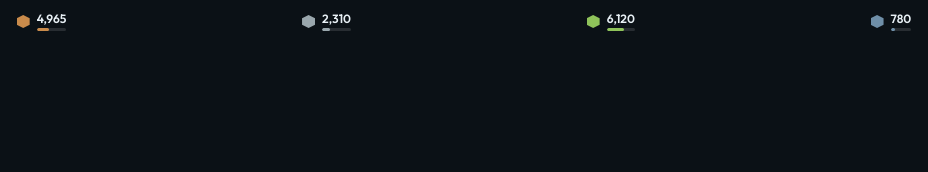
Test: ResourceBar (desktop fit) › switches to the collapsed phone pills when the full row does not fit, and tapping cycles them
The width and height of the screenshot is (928, 172).
Expected: the text "4,965" is shown, x1=37 y1=12 x2=66 y2=26
Click the button with class "resource--compact" showing "4,965" at (42, 21), box x1=17 y1=12 x2=66 y2=31
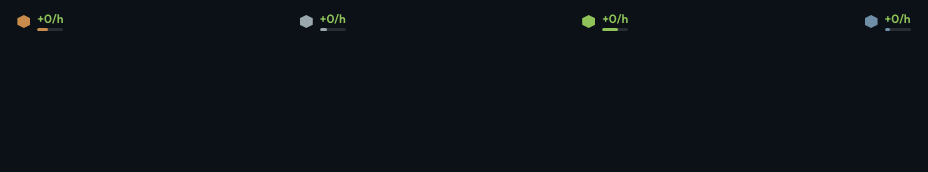
Now the 1st text "+0/h" is shown, box x1=37 y1=12 x2=63 y2=26
